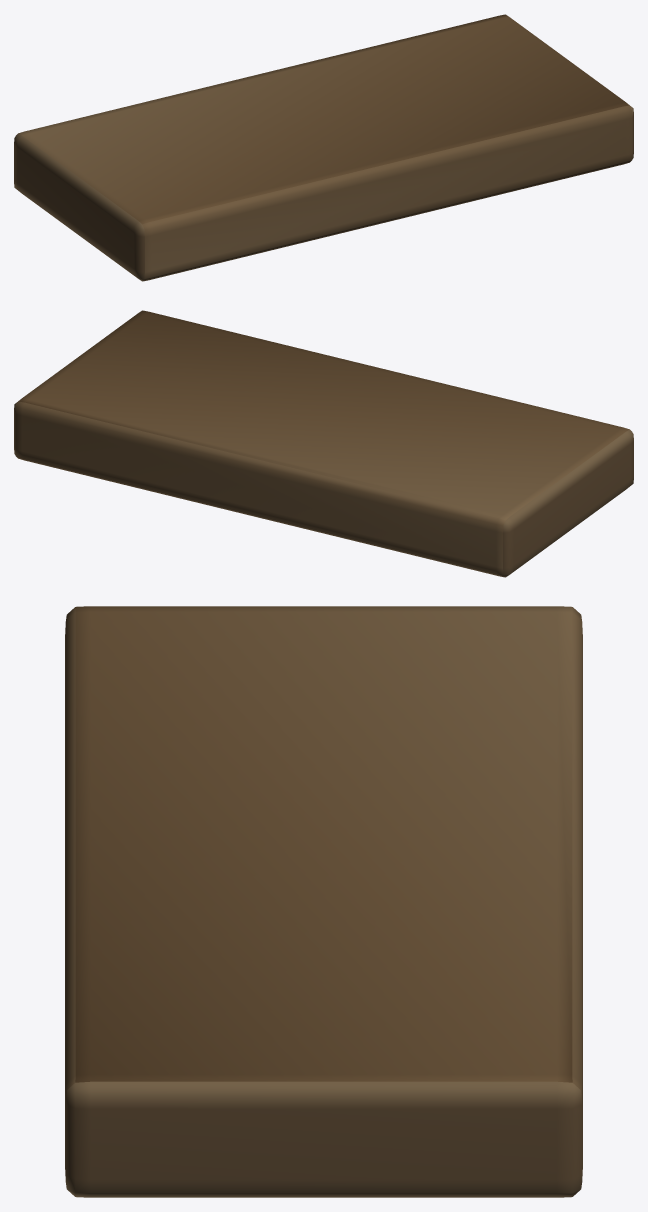
File: Plank.glb
The picture shows the model from 3 angles, top to bottom: view 1: azimuth 30°, elevation 25°; view 2: azimuth 150°, elevation 25°; view 3: azimuth 270°, elevation 25°; orthographic projection. The views are drawn at different scales.
Parts seen in each view (by area): view 1: Plank_base; view 2: Plank_base; view 3: Plank_base.
Part boxes in pixels (x1=…): Plank_base: x1=14, y1=14, x2=633, y2=281; Plank_base: x1=14, y1=310, x2=633, y2=577; Plank_base: x1=65, y1=606, x2=582, y2=1197.
Bounding box in the file's own units: 1.24 × 0.14 × 0.56.
